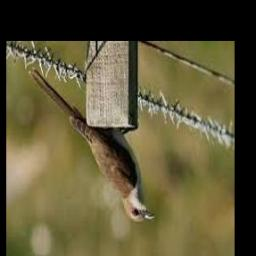Cuckoo: (29, 69, 155, 222)
